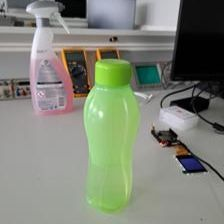bottle: (80, 55, 140, 210)
